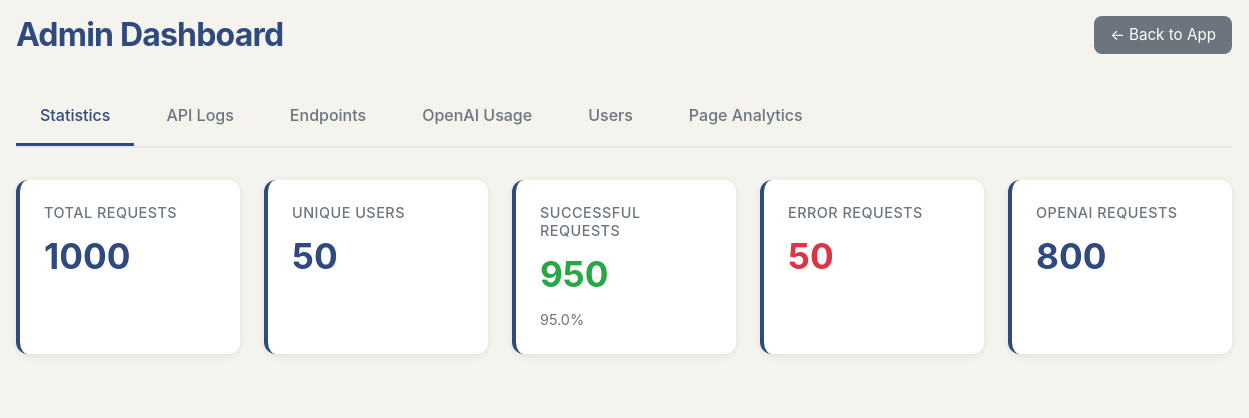
it: AdminDashboard.vue › Endpoints Tab › shows empty state when no endpoint stats
Click the button "Endpoints" at [328, 116], box [266,87,390,146]
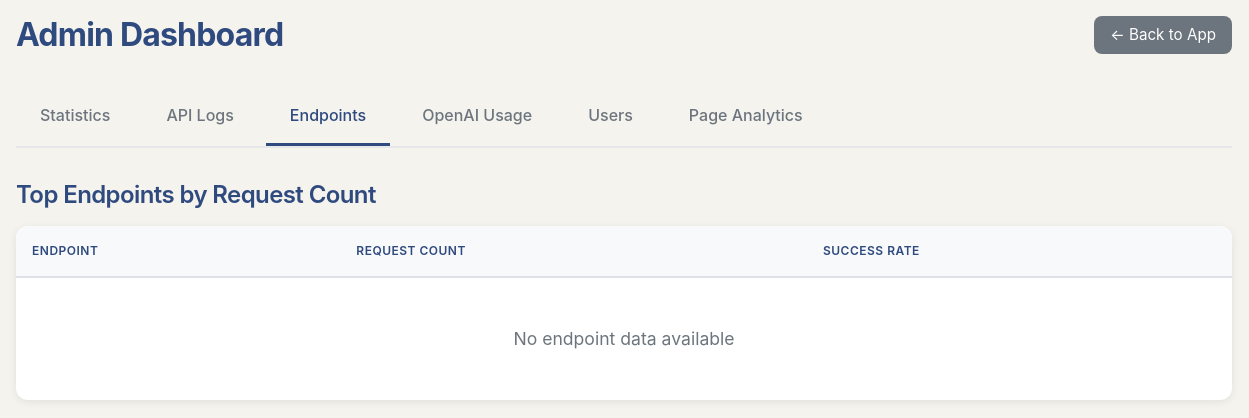
Expected: the text "No endpoint data available" is shown, [513,328,735,349]
